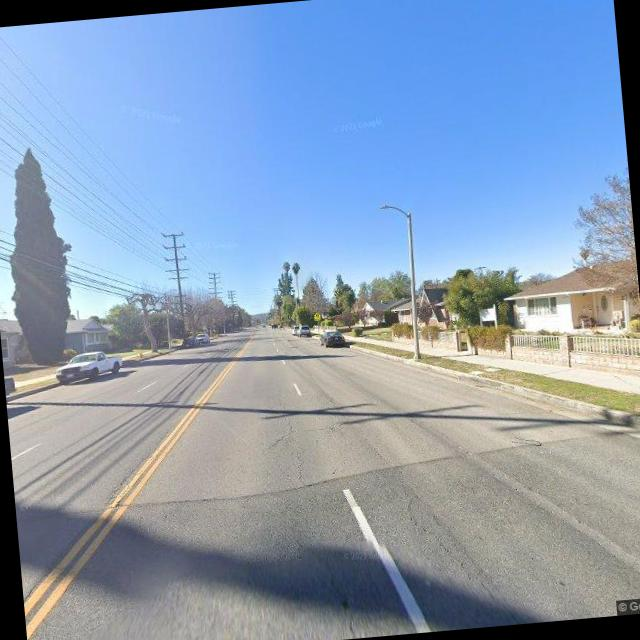pothole: (378, 441, 486, 588), (275, 380, 306, 485)
